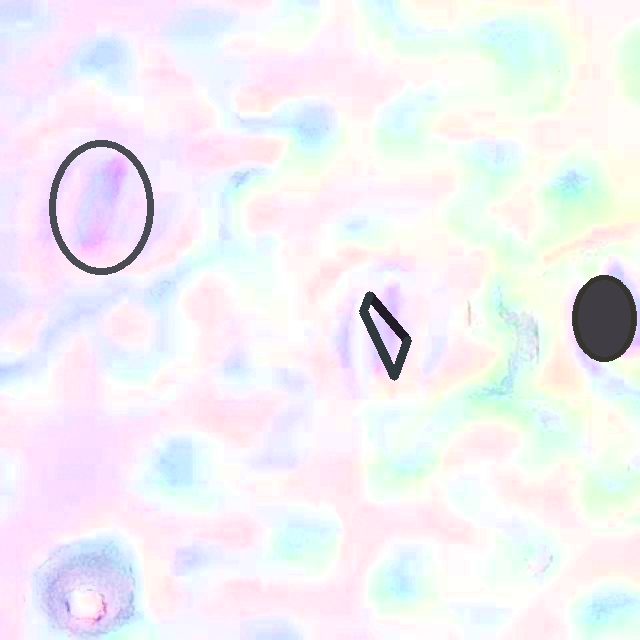open: (48, 140, 154, 275), (572, 275, 637, 361), (359, 291, 411, 380)
